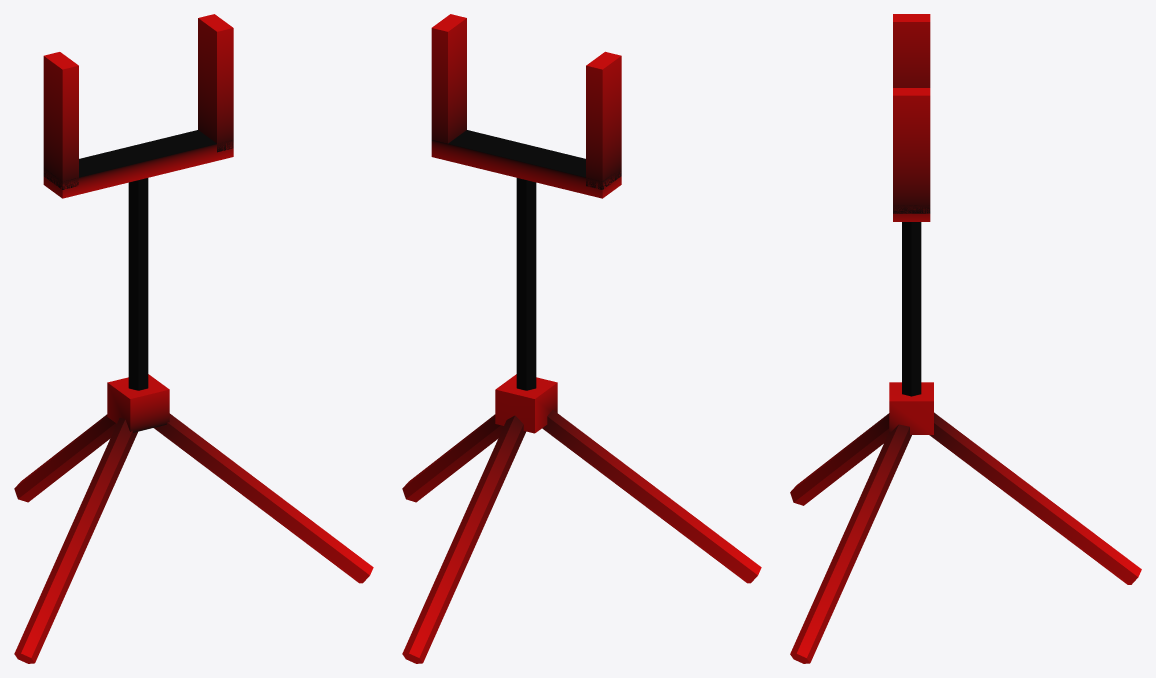
The model's file is follow_spot_stand.glb.
3 renders of one model, left to right at view 1: azimuth 30°, elevation 25°; view 2: azimuth 150°, elevation 25°; view 3: azimuth 270°, elevation 25°, orthographic. The views are drawn at different scales.
Visible parts, largest first — view 1: follow_spot_stand; view 2: follow_spot_stand; view 3: follow_spot_stand.
Boxes of the visible parts, <box> form: follow_spot_stand: <box>14,14,373,663</box>; follow_spot_stand: <box>402,14,761,663</box>; follow_spot_stand: <box>790,14,1141,663</box>.
Bounding box in the file's own units: 1.08 × 1.57 × 0.9465.
